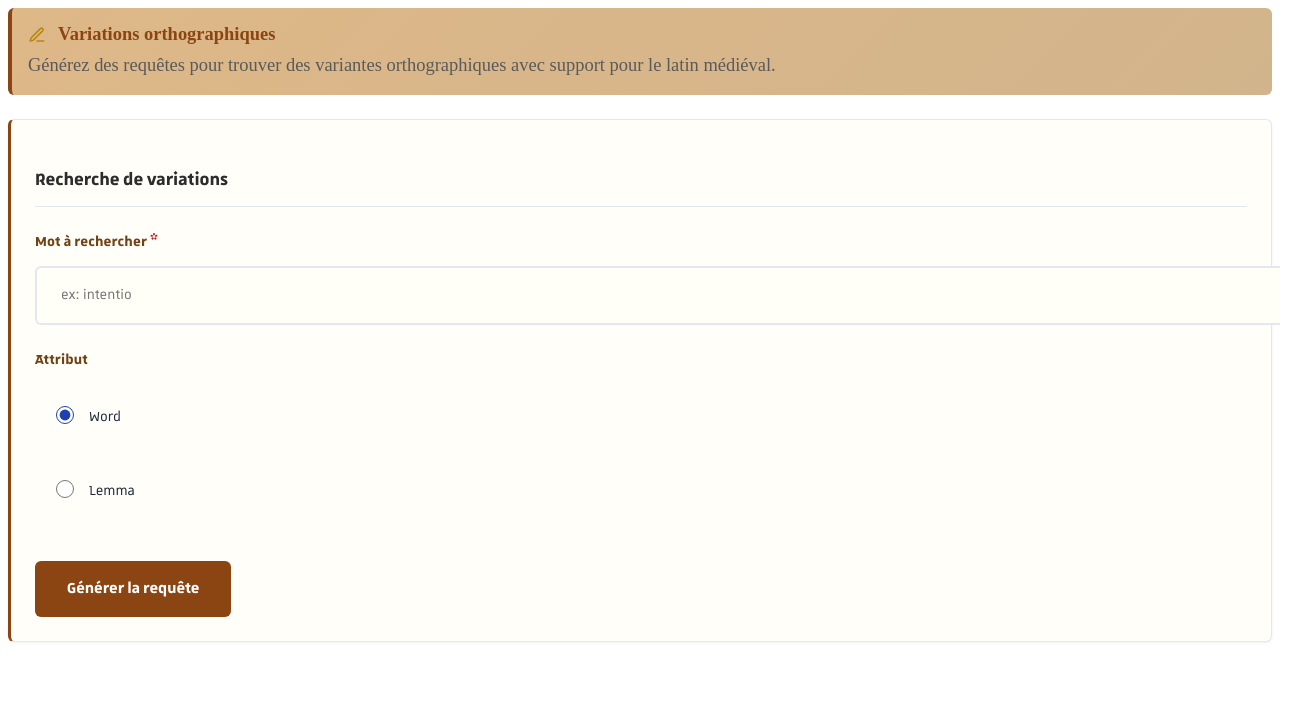
Test: VariationView - Interactions formulaire › devrait permettre de changer l'attribut
Click the radio button labelled "Lemma".
click(65, 489)  # box [56, 480, 74, 498]
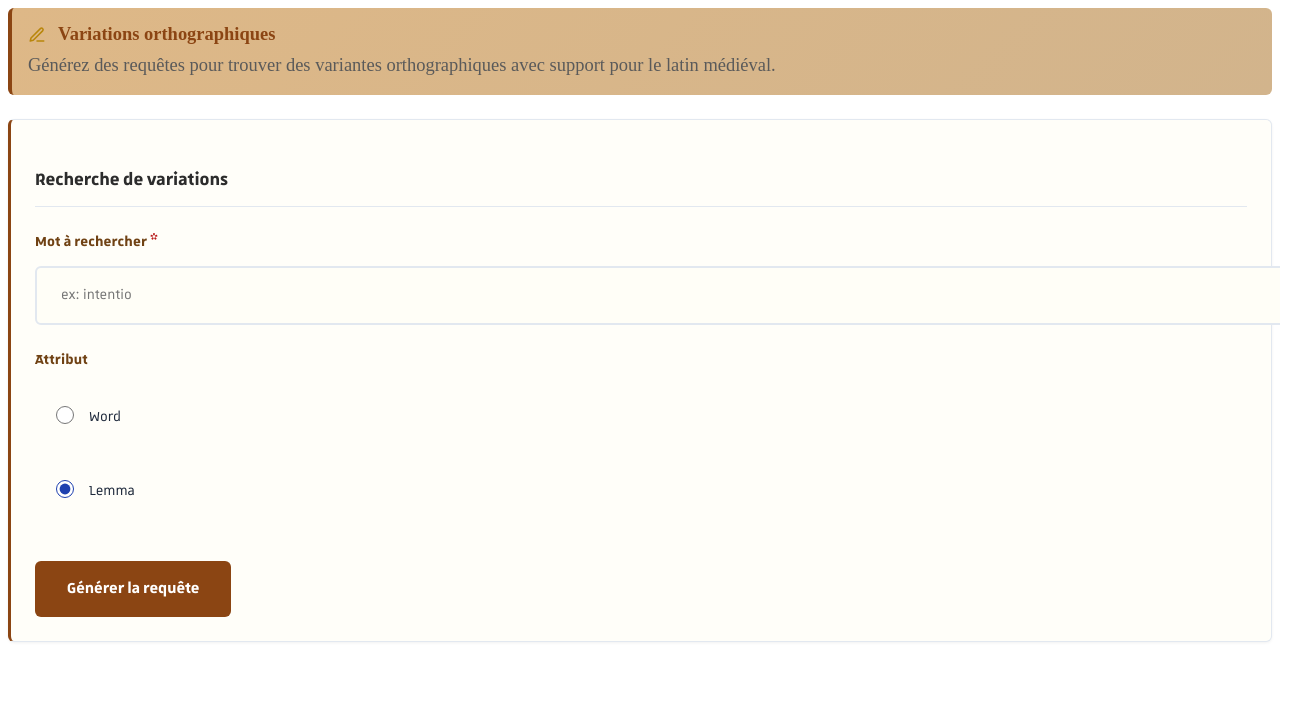
Now the radio button labelled "Lemma" is checked, box [56, 480, 74, 498]
Now the radio button labelled "Word" is not checked, box [56, 406, 74, 424]
